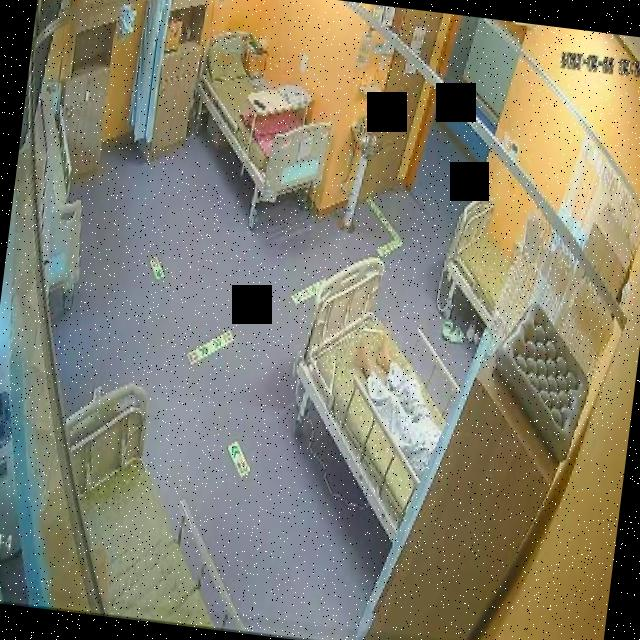bed: (41, 379, 272, 633), (276, 252, 466, 544), (178, 26, 342, 210), (440, 191, 518, 329)
lie: (337, 318, 452, 478)
patient: (336, 322, 452, 476)
